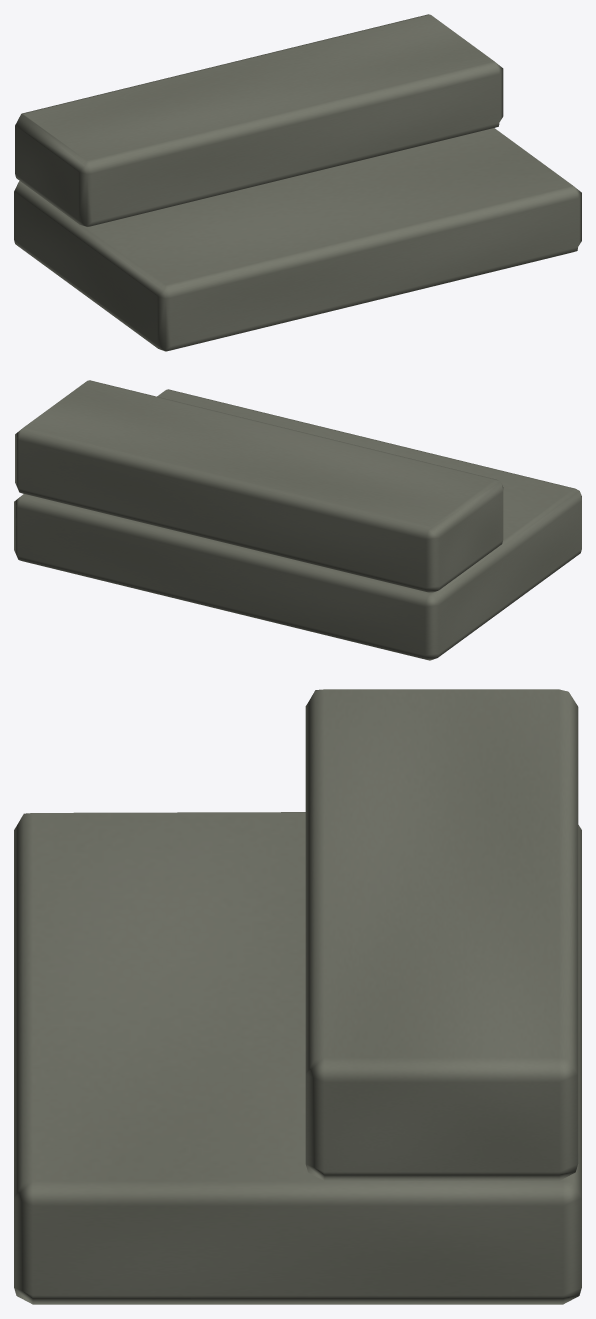
File: step.gltf
The picture shows the model from 3 angles, top to bottom: view 1: azimuth 30°, elevation 25°; view 2: azimuth 150°, elevation 25°; view 3: azimuth 270°, elevation 25°; orthographic projection. The views are drawn at different scales.
Bounding box in the file's own units: 1.2 × 0.36 × 0.75.
Materials: 1 (1 with a texture image).
